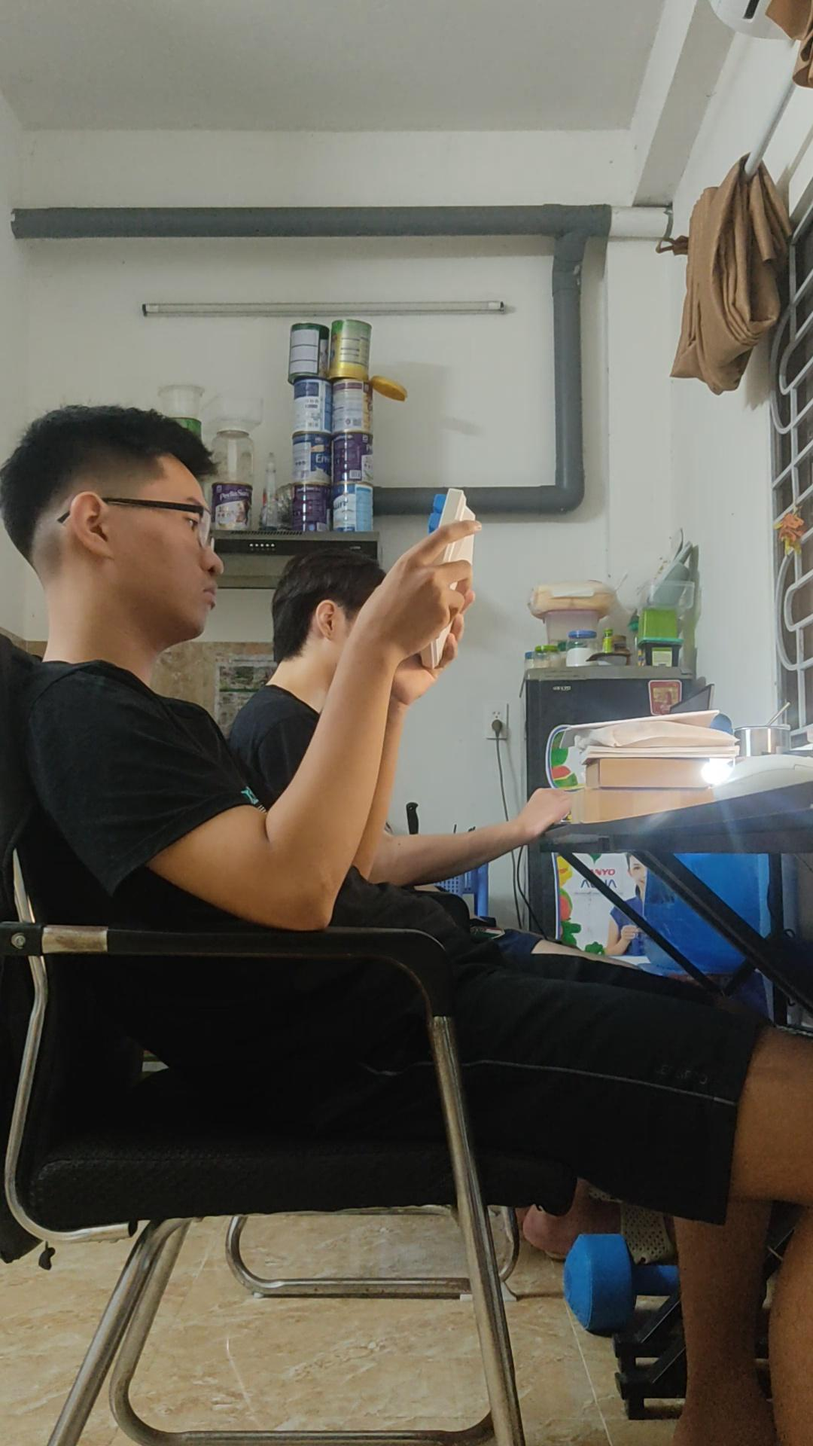BadPosture: (4, 409, 812, 1437)
